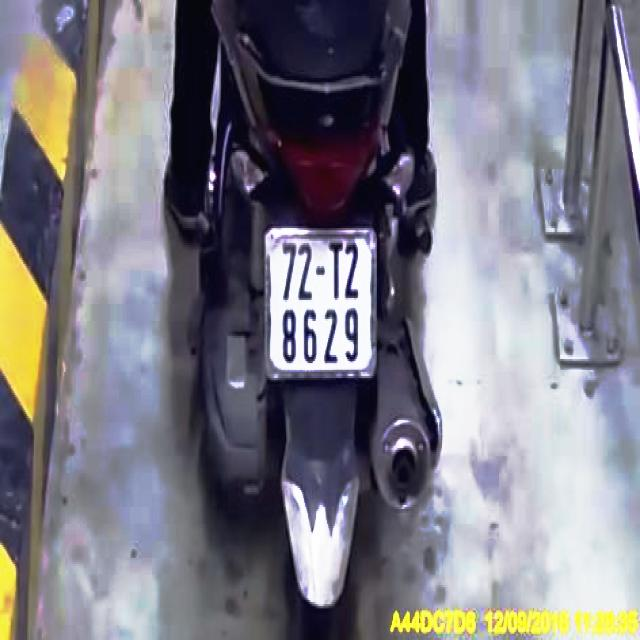license_plate: (270, 231, 375, 375)
